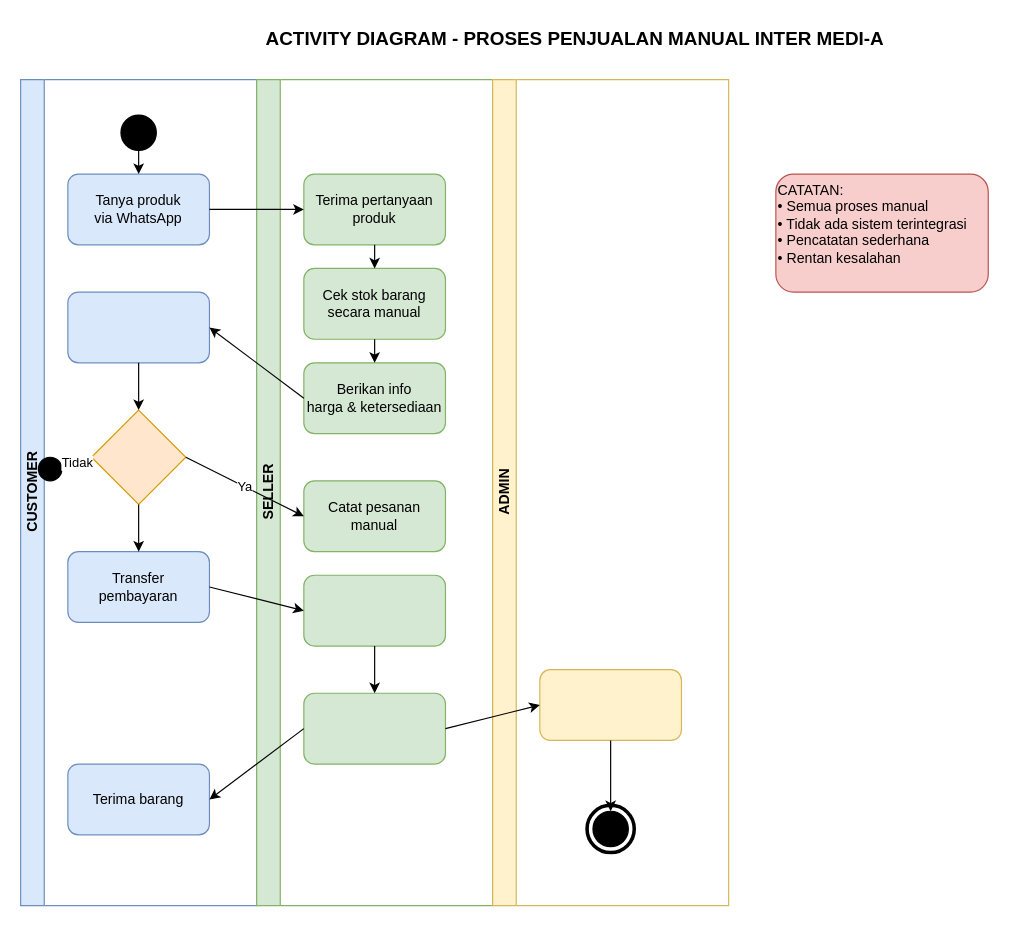
Some shapes in this 1009 by 926 pixel diagram are drawn without their labels. Here are the shapes that lost their labels. From the top down, the centre of each, then its label:
point (138, 327): Tunggu informasi produk & harga
point (138, 456): Putuskan untuk beli?
point (374, 610): Konfirmasi pembayaran manual
point (610, 704): Catat transaksi dalam buku
point (374, 728): Kirim barang
